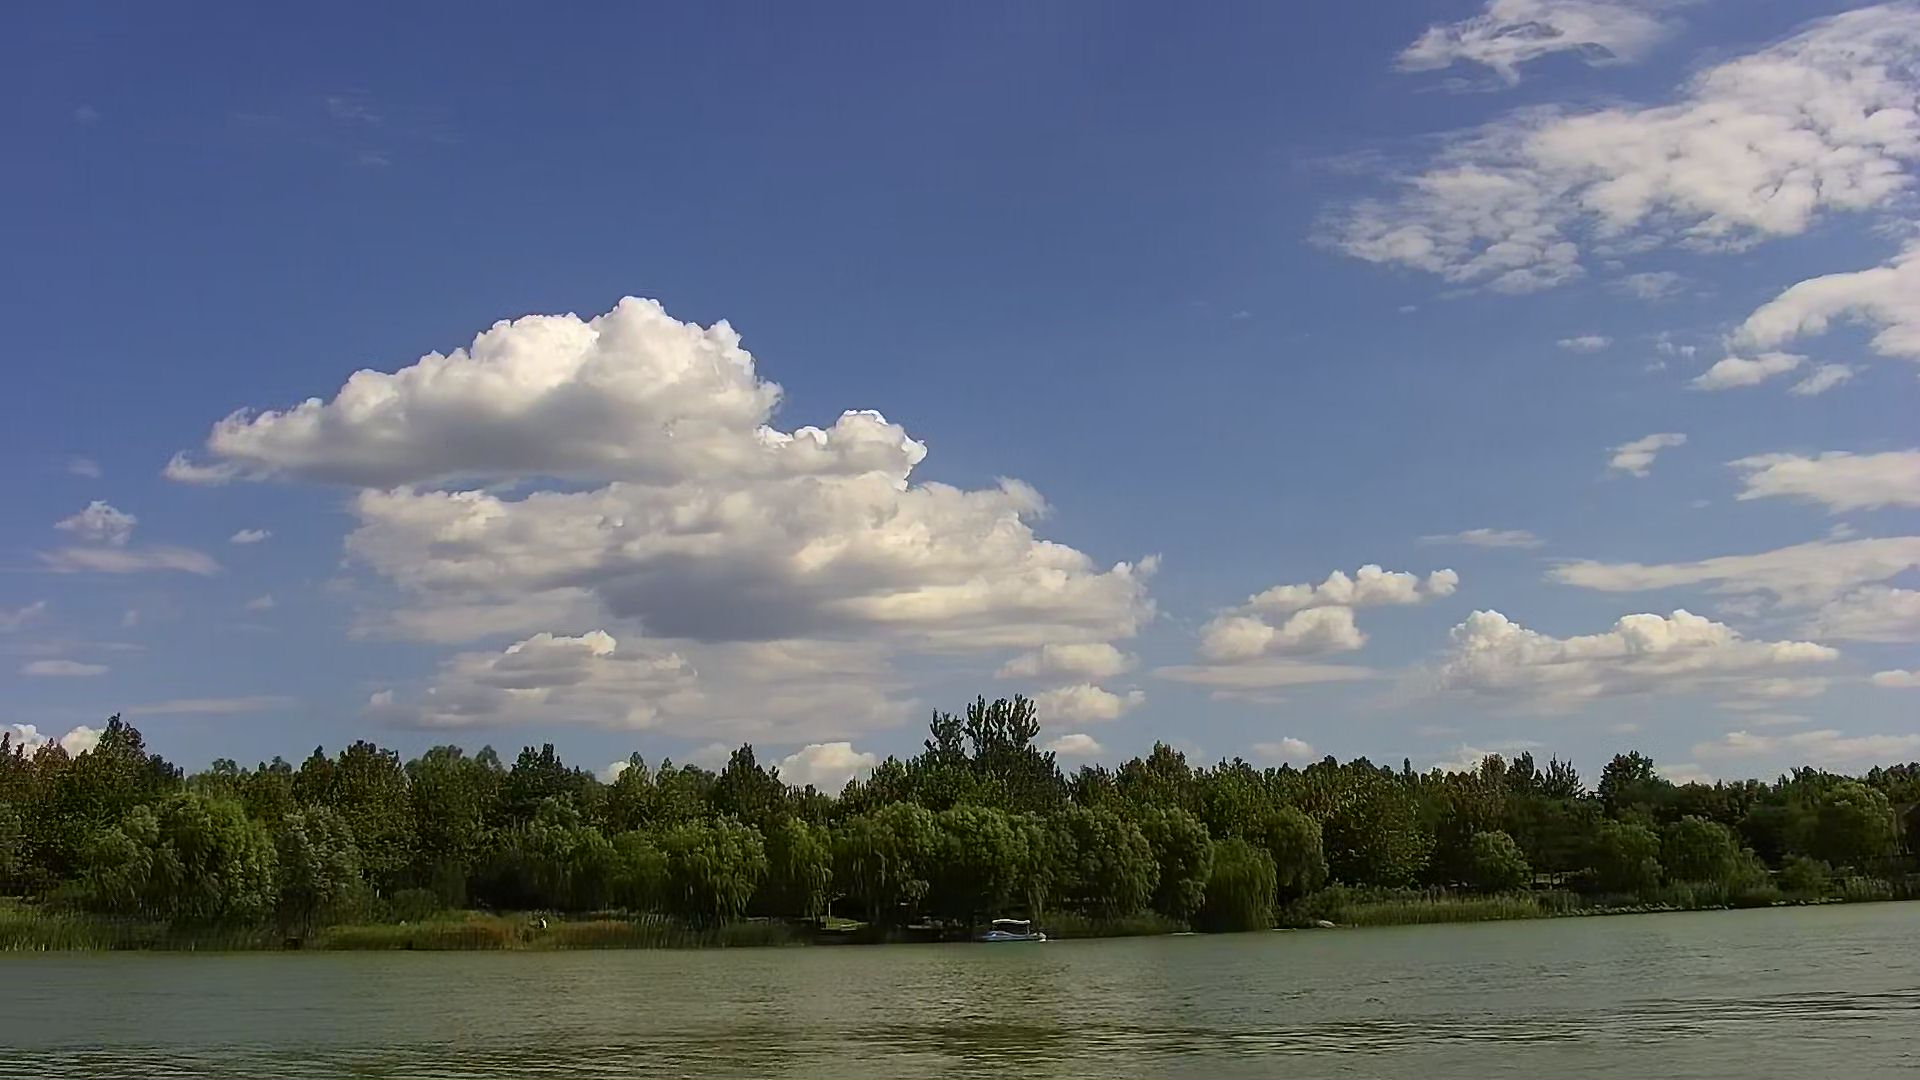boat: (981, 916, 1048, 945)
